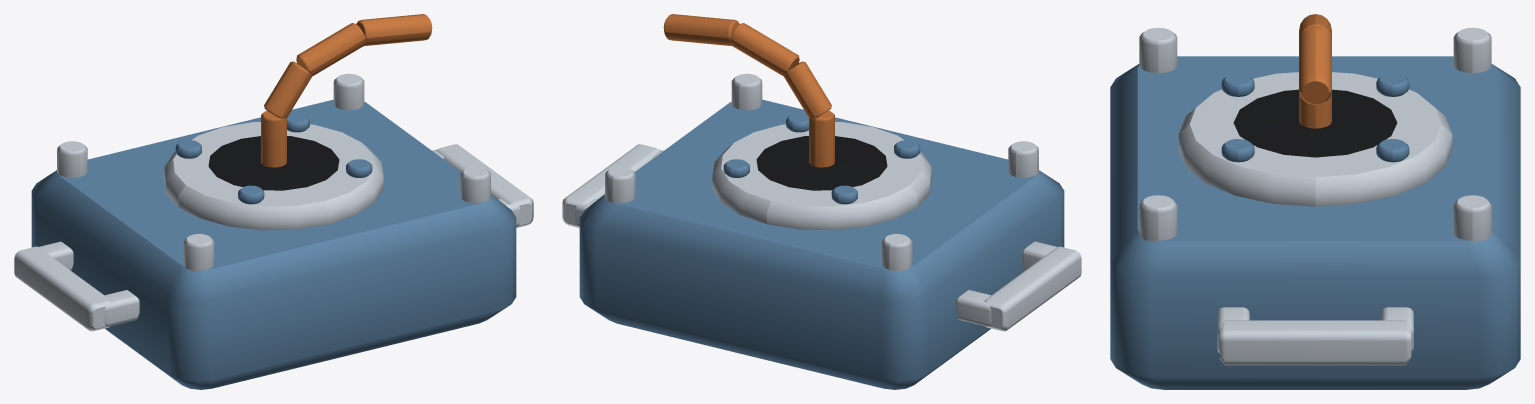
The model's file is objet_moule_fil.glb.
3 renders of one model, left to right at view 1: azimuth 30°, elevation 25°; view 2: azimuth 150°, elevation 25°; view 3: azimuth 270°, elevation 25°, orthographic. The views are drawn at different scales.
Parts seen in each view (by area): view 1: moule_moule_corps.006, moule_moule_acier.006, moule_cuivre.002, moule_moule_creux.006; view 2: moule_moule_corps.006, moule_moule_acier.006, moule_cuivre.002, moule_moule_creux.006; view 3: moule_moule_corps.006, moule_moule_acier.006, moule_moule_creux.006, moule_cuivre.002.
Boxes of the visible parts, box(x1,y1,x2,y2) form: moule_moule_corps.006: box(31, 99, 516, 389); moule_moule_acier.006: box(14, 73, 533, 331); moule_cuivre.002: box(261, 14, 432, 167); moule_moule_creux.006: box(208, 136, 339, 190); moule_moule_corps.006: box(579, 99, 1064, 389); moule_moule_acier.006: box(562, 73, 1081, 331); moule_cuivre.002: box(663, 14, 834, 167); moule_moule_creux.006: box(756, 136, 887, 190); moule_moule_corps.006: box(1110, 56, 1520, 389); moule_moule_acier.006: box(1139, 27, 1491, 365); moule_moule_creux.006: box(1233, 89, 1397, 157); moule_cuivre.002: box(1299, 14, 1331, 128).
Size of the model in its own units: 0.234 by 0.1308 by 0.15.
